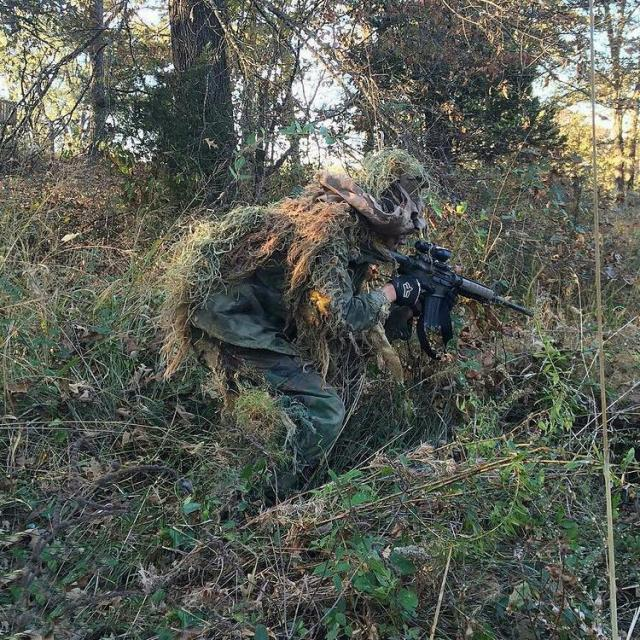Human: (163, 146, 534, 505)
